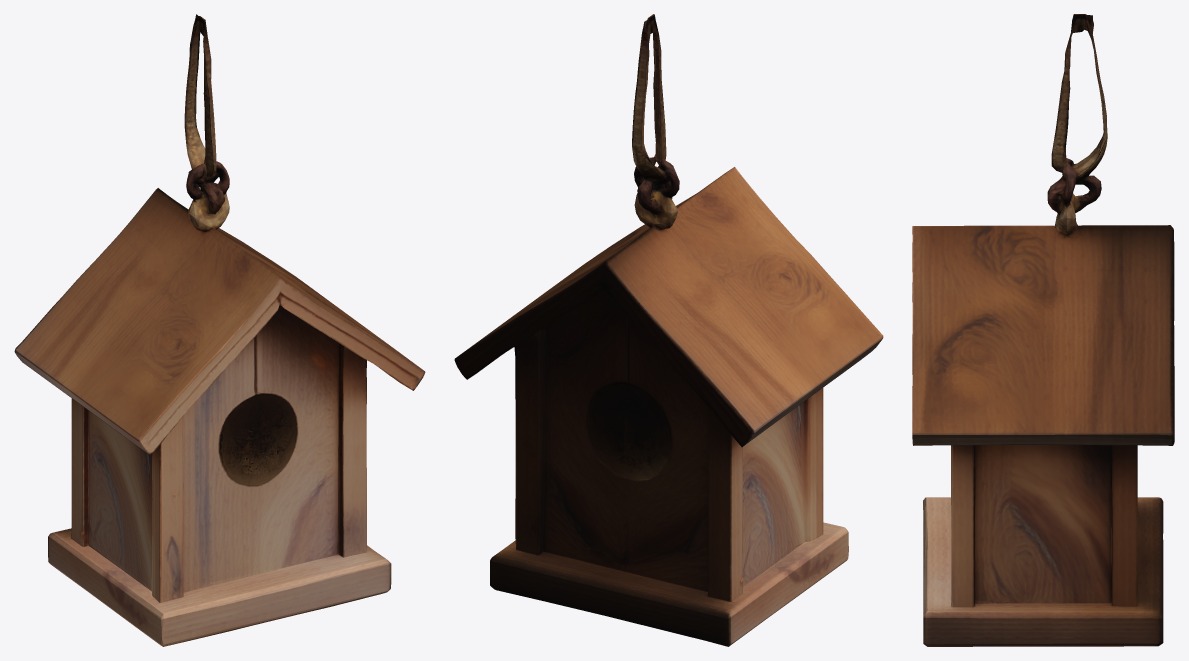
The model's file is wooden-birdhouse-rustic.jpeg.glb.
3 renders of one model, left to right at view 1: azimuth 30°, elevation 25°; view 2: azimuth 150°, elevation 25°; view 3: azimuth 270°, elevation 25°, orthographic. The views are drawn at different scales.
Visible parts, largest first — view 1: world; view 2: world; view 3: world.
Part boxes in pixels (bbox=[...]): world: bbox=[14, 14, 425, 646]; world: bbox=[454, 14, 883, 646]; world: bbox=[912, 14, 1174, 646].
Size of the model in its own units: 0.5469 by 1 by 0.4134.
1 material, 1 textured.
